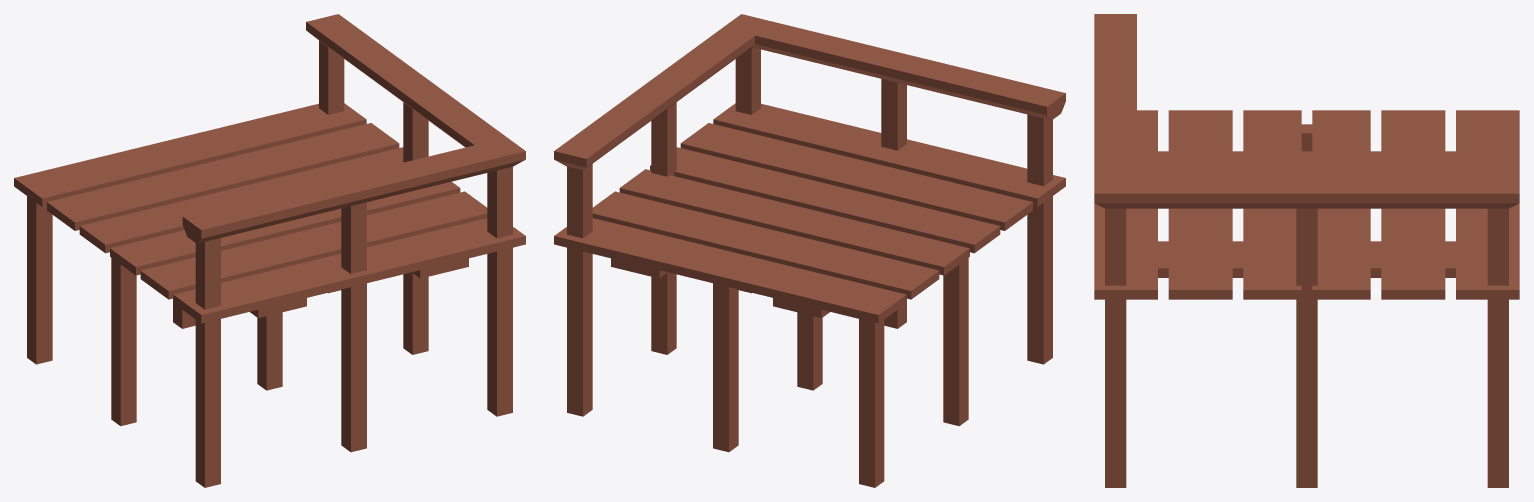
File: scaffold_medium_cornerLeft 1.fbx
The picture shows the model from 3 angles, left to right: view 1: azimuth 30°, elevation 25°; view 2: azimuth 150°, elevation 25°; view 3: azimuth 270°, elevation 25°; orthographic projection. The views are drawn at different scales.
Parts seen in each view (by area): view 1: scaffold_medium_cornerLeft; view 2: scaffold_medium_cornerLeft; view 3: scaffold_medium_cornerLeft.
Boxes of the visible parts, x1,y1,x2,y2 form: scaffold_medium_cornerLeft: (14,14,525,487); scaffold_medium_cornerLeft: (554,14,1065,487); scaffold_medium_cornerLeft: (1094,14,1519,487).
Size of the model in its own units: 400 by 310 by 400.
